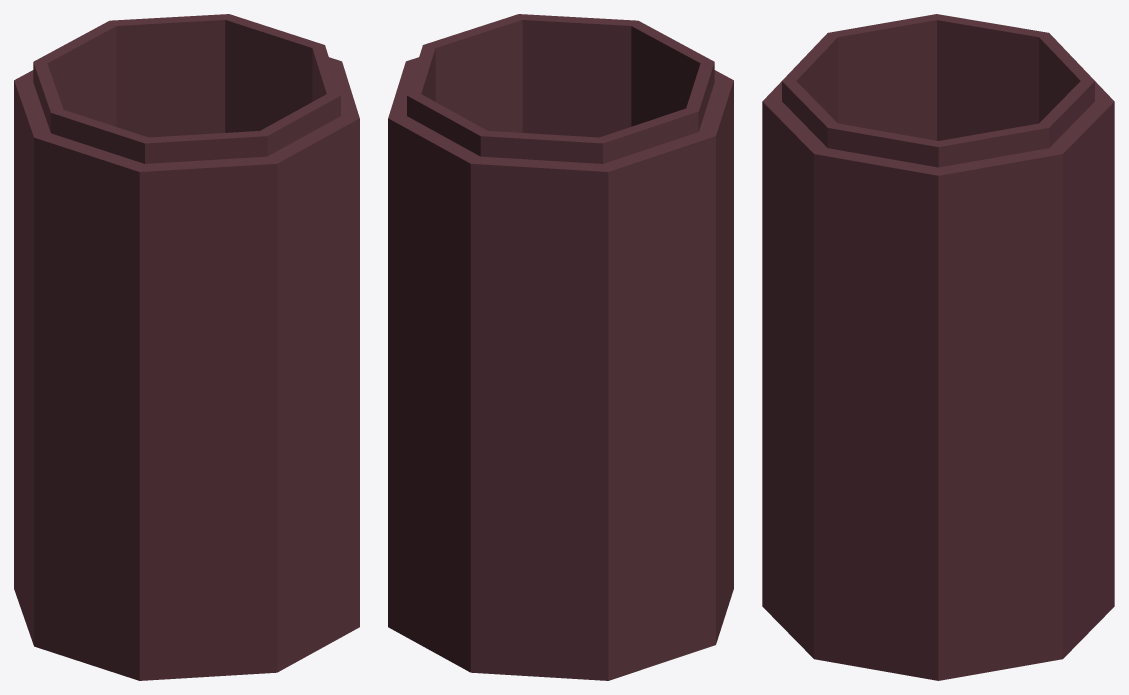
File: construction-pipe-concrete.glb
3 views of the same model, side by side, from view 1: azimuth 30°, elevation 25°; view 2: azimuth 150°, elevation 25°; view 3: azimuth 270°, elevation 25° (orthographic).
Parts seen in each view (by area): view 1: pipe-concrete; view 2: pipe-concrete; view 3: pipe-concrete.
Part boxes in pixels (x1,y1,x2,y2): pipe-concrete: (14,14,359,680); pipe-concrete: (388,14,733,680); pipe-concrete: (762,14,1114,680).
Size of the model in its own units: 1.24 by 2.03 by 1.23.
